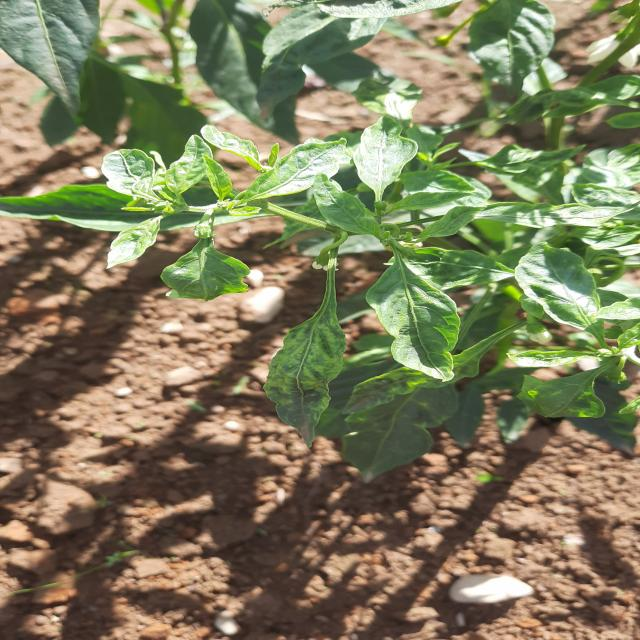thrips: (344, 256, 512, 387), (239, 293, 370, 456), (91, 142, 191, 206)
